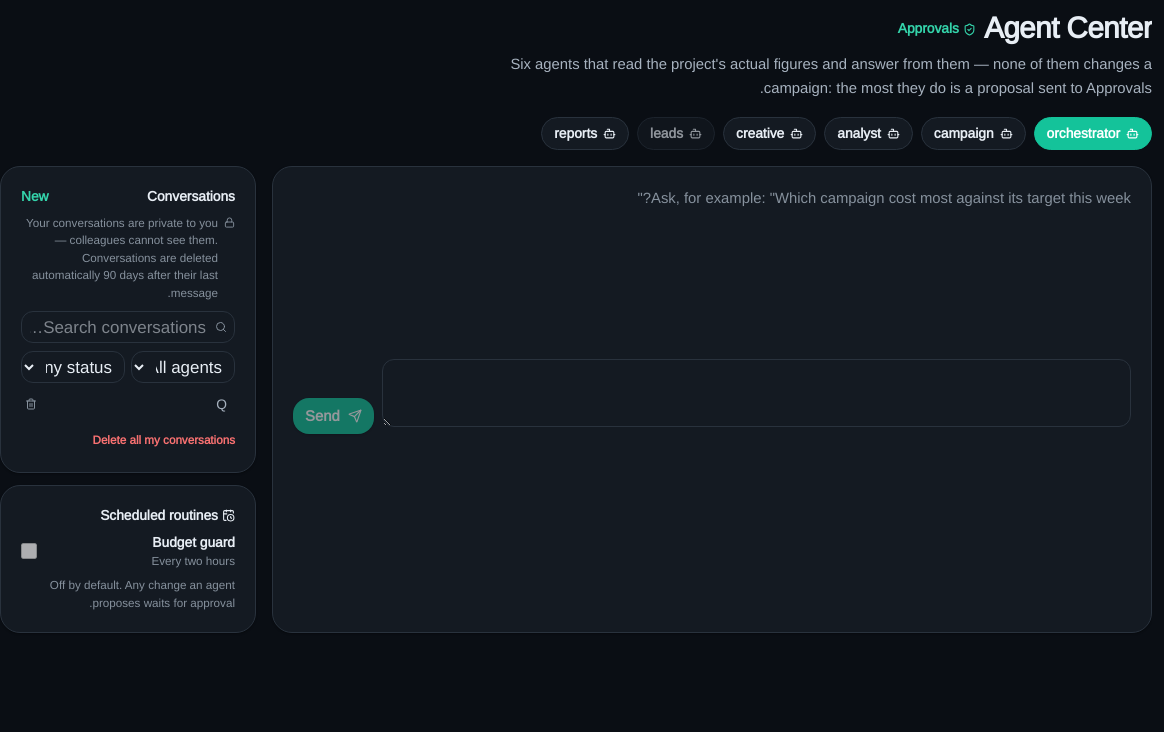
the agent center › names a missing key instead of showing a reply
Click the button "Q": (140, 404) left=45, top=391, right=235, bottom=418
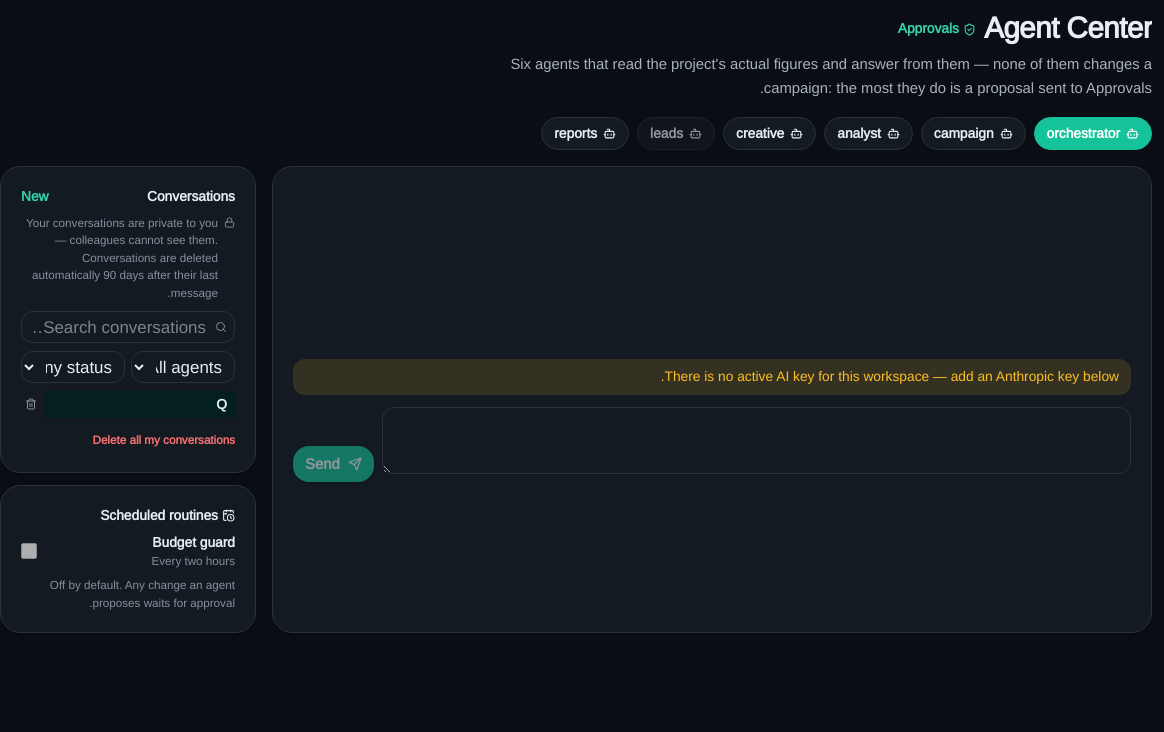
Now the message with test id "agent-failed" shows "no active AI key", box left=661, top=368, right=1119, bottom=384
